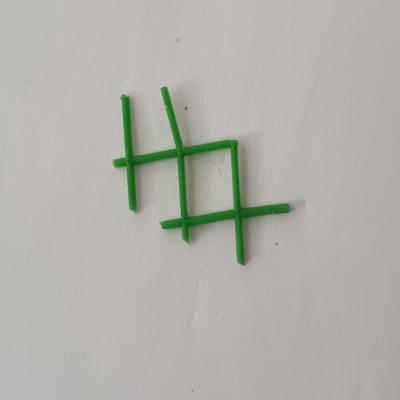plastic: (110, 83, 298, 274)
